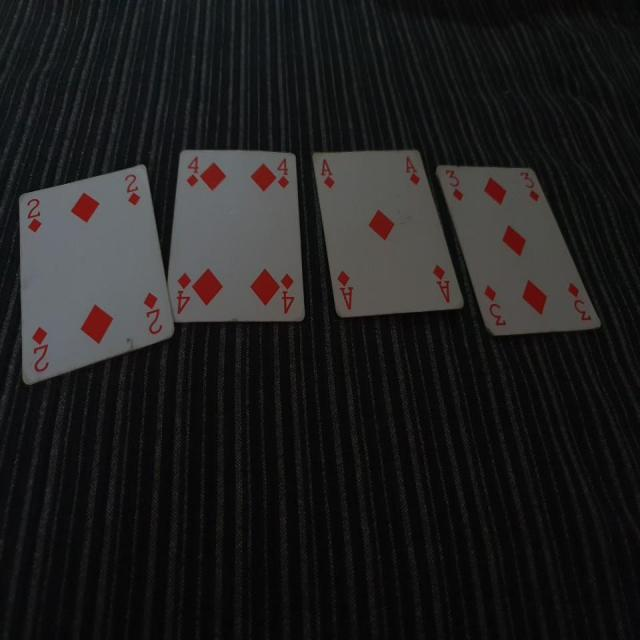2 Diamonds: (13, 162, 176, 388)
3 Diamonds: (434, 154, 603, 340)
4 Diamonds: (165, 146, 310, 328)
A Diamonds: (314, 129, 466, 326)
